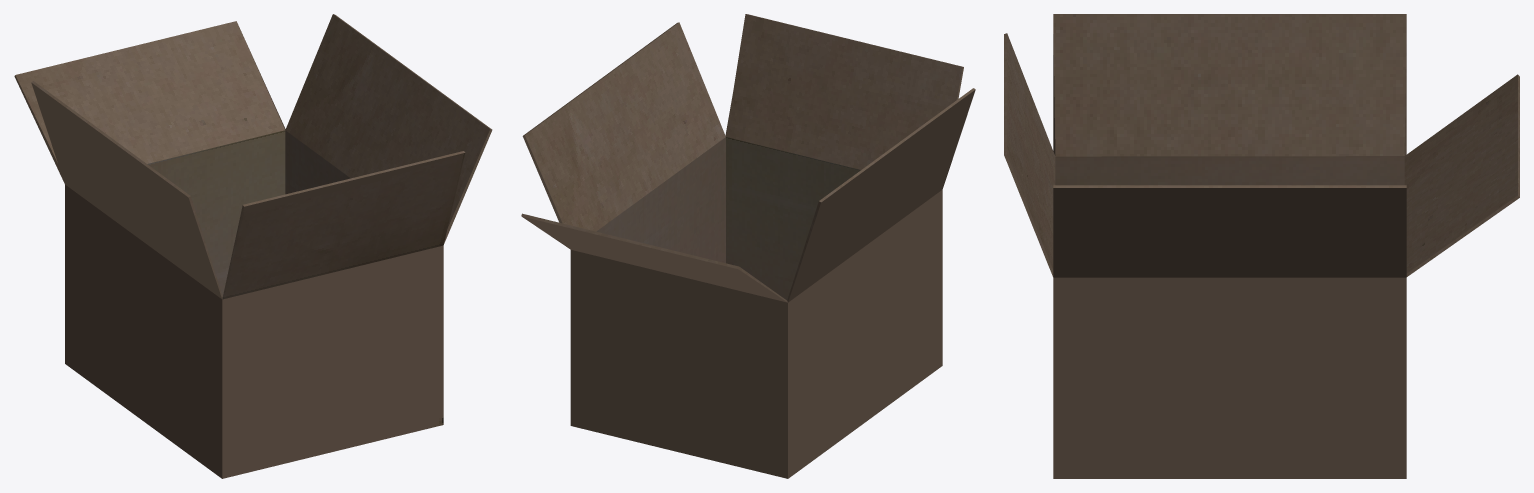
Rendered from master.glb.
The picture shows the model from 3 angles, left to right: view 1: azimuth 30°, elevation 25°; view 2: azimuth 150°, elevation 25°; view 3: azimuth 270°, elevation 25°; orthographic projection. The views are drawn at different scales.
Visible parts, largest first — view 1: Empty Cardboard; view 2: Empty Cardboard; view 3: Empty Cardboard.
Part boxes in pixels (x1,y1,x2,y2): Empty Cardboard: (14,14,492,478); Empty Cardboard: (521,14,975,478); Empty Cardboard: (1004,14,1519,478).
Size of the model in its own units: 4.52 by 4.13 by 5.92.
Materials: 1 (1 with a texture image).
